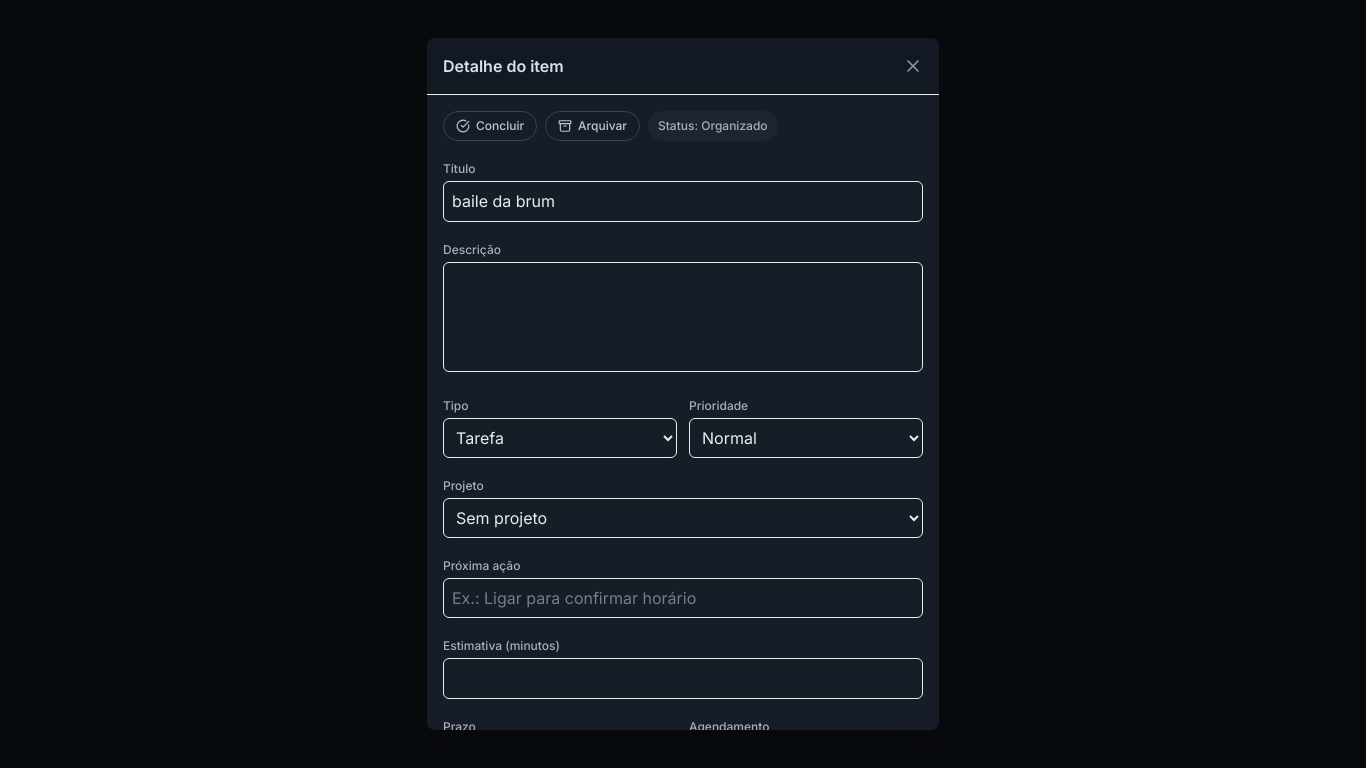
Test case: ItemDetailModal › arquiva a tarefa
This screenshot has width=1366, height=768.
Check: the field labelled "Título" is shown, box [443, 181, 923, 222]
Step 1. Click the button "Arquivar" → click(593, 126), box [545, 111, 640, 141]
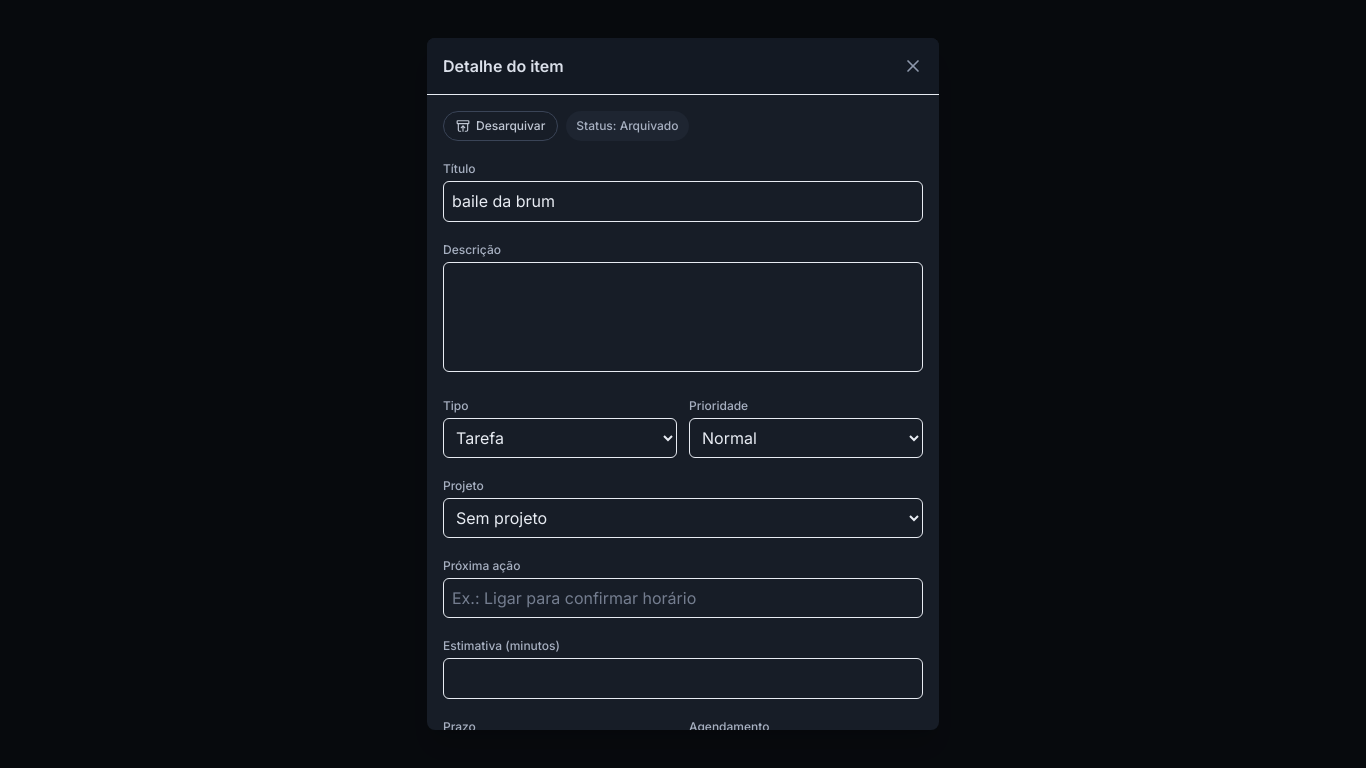
Check: the text "Status: Arquivado" is shown, box [566, 111, 688, 141]
